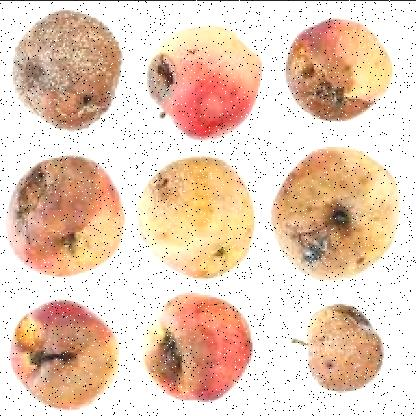damaged_apple: (275, 137, 395, 283), (137, 152, 251, 284), (135, 287, 250, 416), (9, 2, 119, 135), (11, 150, 121, 282), (7, 290, 122, 416), (142, 26, 262, 142), (276, 15, 390, 126), (297, 292, 388, 407)
